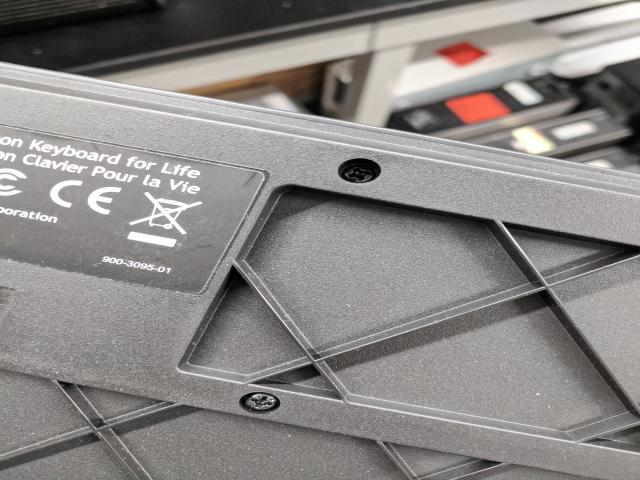CRS: (242, 391, 282, 415), (341, 166, 376, 182)
